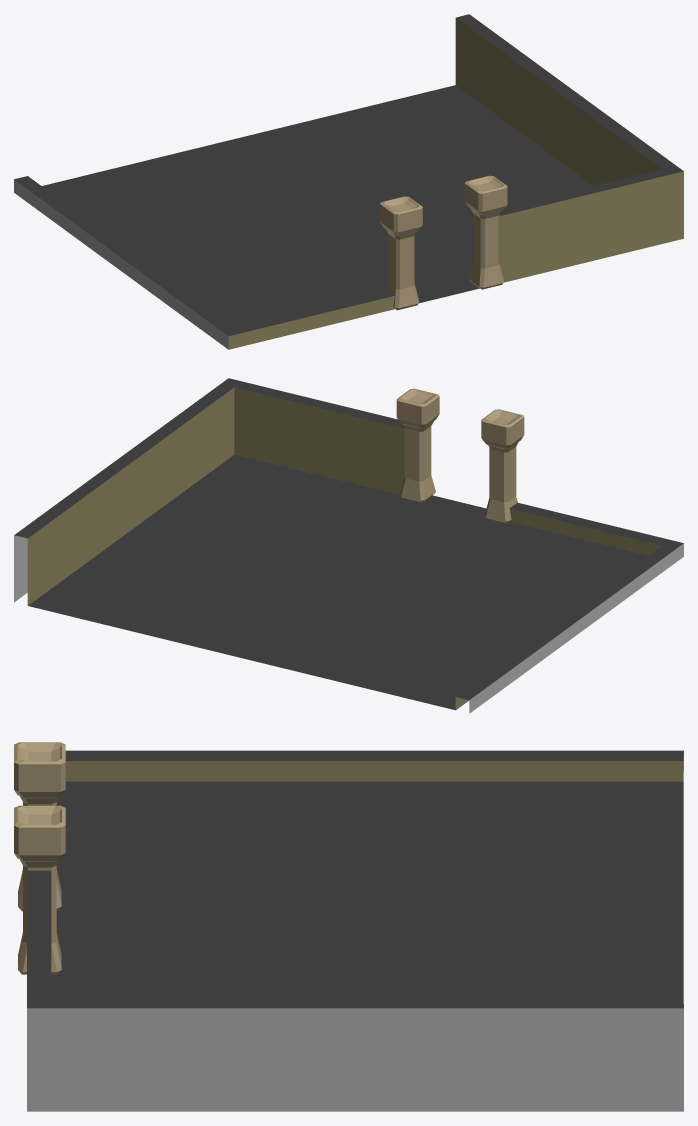
The model's file is Room2.fbx.
3 renders of one model, top to bottom at view 1: azimuth 30°, elevation 25°; view 2: azimuth 150°, elevation 25°; view 3: azimuth 270°, elevation 25°, orthographic. The views are drawn at different scales.
Parts seen in each view (by area): view 1: Room.001; view 2: Room.001; view 3: Room.001.
Boxes of the visible parts, x1,y1,x2,y2 form: Room.001: (14,14,683,349); Room.001: (14,378,683,713); Room.001: (14,742,683,1111).
Bounding box in the file's own units: 3532 × 735 × 2941.
